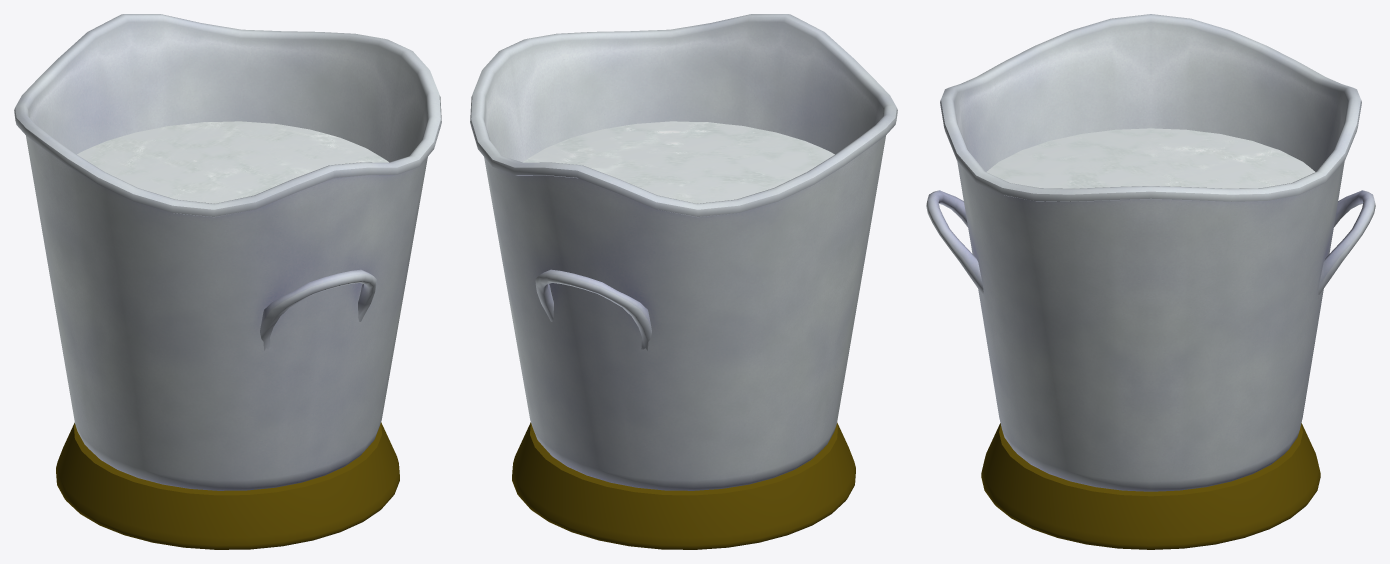
File: IceBucket01_3_2.FBX
3 views of the same model, side by side, from view 1: azimuth 30°, elevation 25°; view 2: azimuth 150°, elevation 25°; view 3: azimuth 270°, elevation 25° (orthographic).
Visible parts, largest first — view 1: IceBucket03_2; view 2: IceBucket03_2; view 3: IceBucket03_2.
Boxes of the visible parts, <box> form: IceBucket03_2: <box>14,14,441,549</box>; IceBucket03_2: <box>470,14,897,549</box>; IceBucket03_2: <box>926,14,1375,549</box>.
Bounding box in the file's own units: 28.03 × 27.96 × 29.85.
